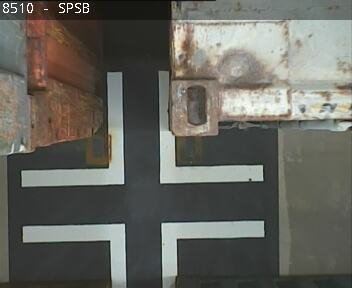groundmarker_1: (20, 70, 263, 188), (22, 218, 265, 287)
